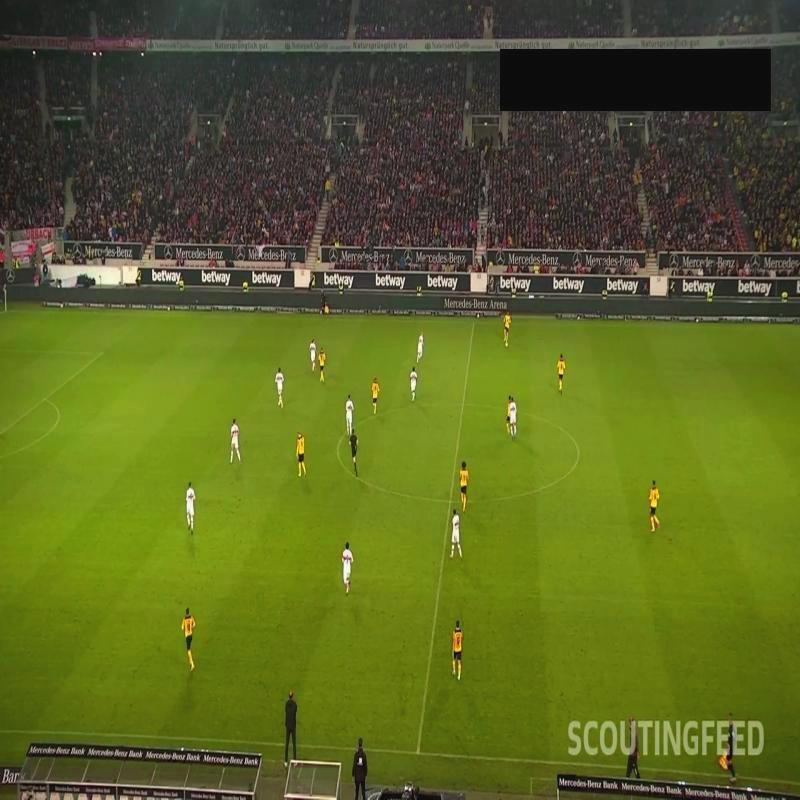1: (0, 304, 13, 318)
10: (40, 390, 54, 404)
13: (468, 316, 482, 330)
14: (456, 398, 470, 412)
15: (441, 493, 460, 509)
16: (408, 743, 427, 763)
9: (95, 345, 109, 359)
c: (569, 445, 589, 461), (332, 438, 345, 452)
